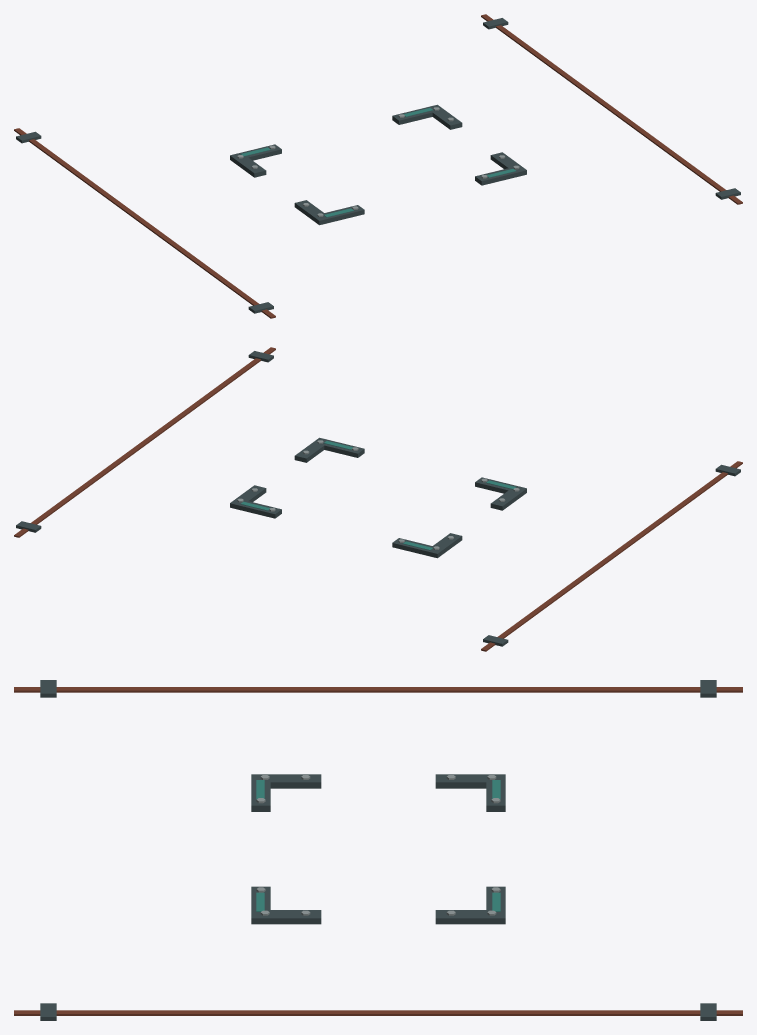
File: e13-foreman-roof-dressing.glb
3 renders of one model, top to bottom at view 1: azimuth 30°, elevation 25°; view 2: azimuth 150°, elevation 25°; view 3: azimuth 270°, elevation 25°, orthographic. The views are drawn at different scales.
Parts seen in each view (by area): view 1: Roof lap seam, interrupted around find, Roof lap seam, interrupted around find.001; view 2: Roof lap seam, interrupted around find, Roof lap seam, interrupted around find.001; view 3: Roof lap seam, interrupted around find, Roof lap seam, interrupted around find.001, Riveted corner, short leg.002, Riveted corner, short leg.003, Riveted corner, short leg, Riveted corner, short leg.001, Riveted corner, long leg.002, Riveted corner, long leg.003, Riveted corner, long leg, Riveted corner, long leg.001.
Part boxes in pixels (x1,y1,x2,y2): Roof lap seam, interrupted around find: (14, 128, 275, 318); Roof lap seam, interrupted around find.001: (481, 14, 742, 204); Roof lap seam, interrupted around find: (481, 461, 742, 651); Roof lap seam, interrupted around find.001: (14, 347, 275, 537); Roof lap seam, interrupted around find: (14, 687, 742, 692); Roof lap seam, interrupted around find.001: (14, 1010, 742, 1015); Riveted corner, short leg.002: (270, 910, 321, 924); Riveted corner, short leg.003: (435, 910, 486, 924); Riveted corner, short leg: (270, 774, 321, 788); Riveted corner, short leg.001: (435, 774, 486, 788); Riveted corner, long leg.002: (251, 886, 270, 924); Riveted corner, long leg.003: (486, 886, 505, 924); Riveted corner, long leg: (251, 774, 270, 811); Riveted corner, long leg.001: (486, 774, 505, 811).
Size of the model in its own units: 5.79 by 0.065 by 5.3.
